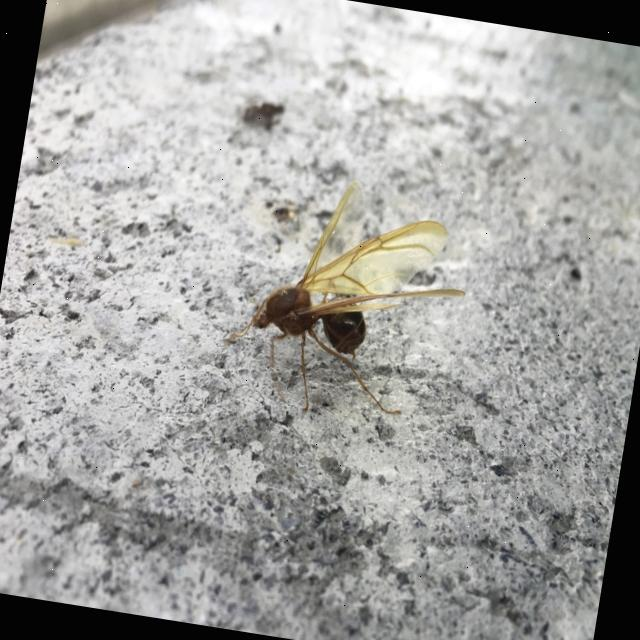Alive-Female-Alate: (223, 164, 480, 433)
